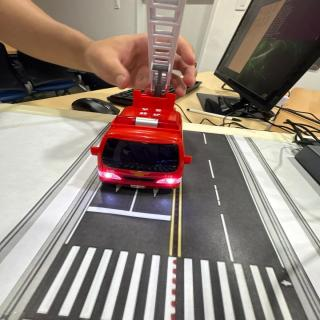Fire_truck: (91, 90, 192, 191)
